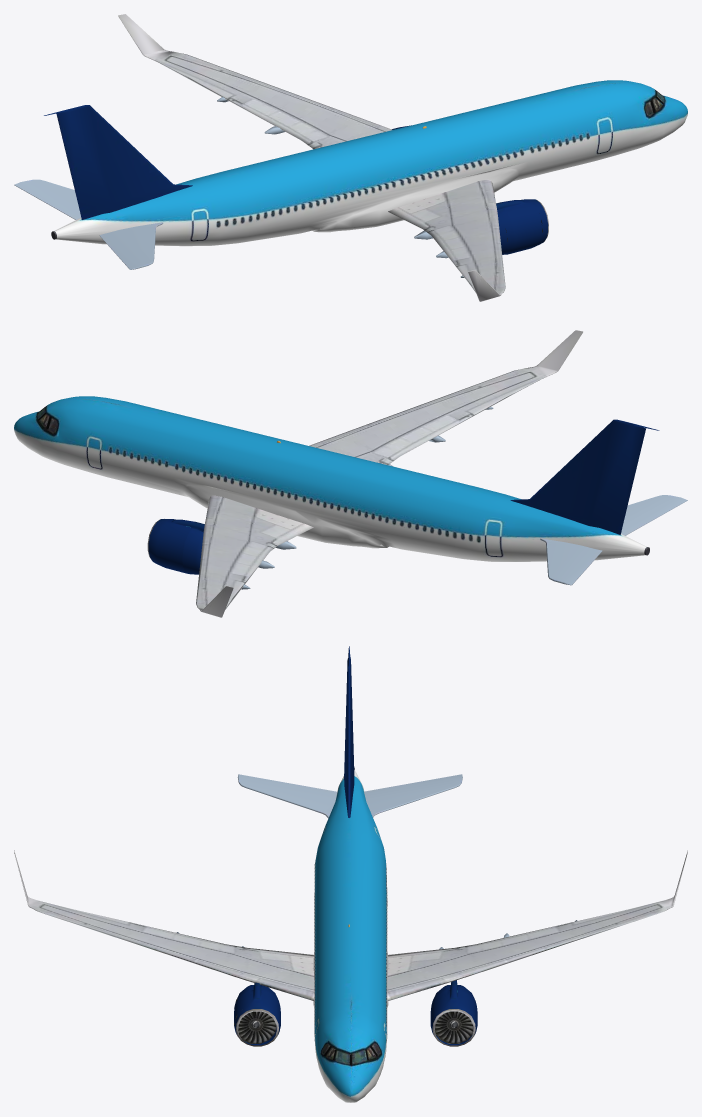
3 renders of one model, top to bottom at view 1: azimuth 30°, elevation 25°; view 2: azimuth 150°, elevation 25°; view 3: azimuth 270°, elevation 25°, orthographic. The views are drawn at different scales.
Visible parts, largest first — view 1: airplane; view 2: airplane; view 3: airplane, mf_fan_1, mf_fan_2.
Part boxes in pixels (left/top/right/bottom): airplane: left=14, top=14, right=687, bottom=301; airplane: left=14, top=330, right=687, bottom=617; airplane: left=14, top=646, right=687, bottom=1102; mf_fan_1: left=234, top=1011, right=276, bottom=1043; mf_fan_2: left=434, top=1011, right=473, bottom=1043.
Size of the model in its own units: 37.68 by 11.32 by 35.48.
Materials: 3 (3 with a texture image).
